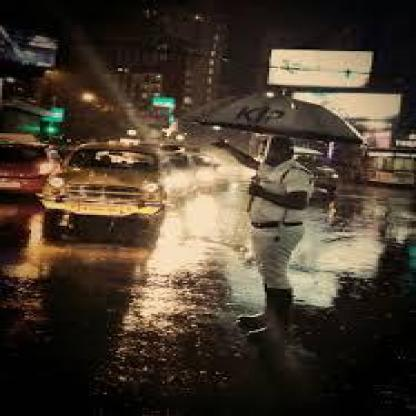other: (156, 162, 241, 188)
